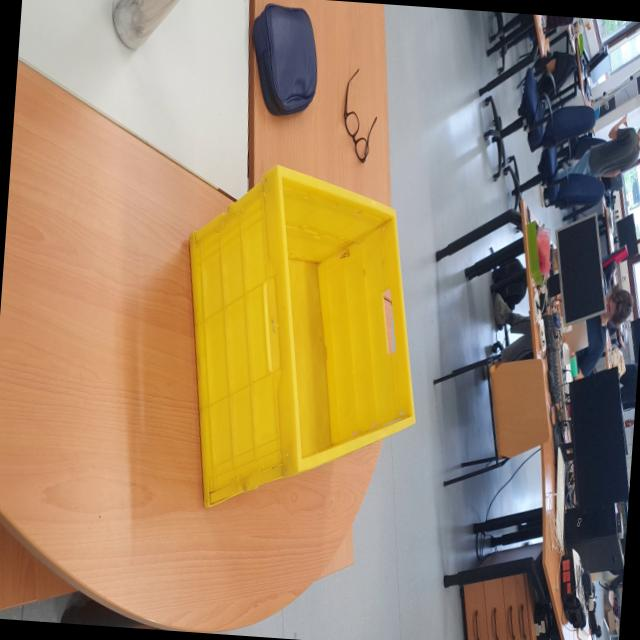box: (166, 155, 444, 528)
